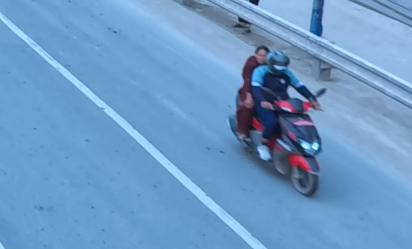scooter: (229, 90, 333, 200)
